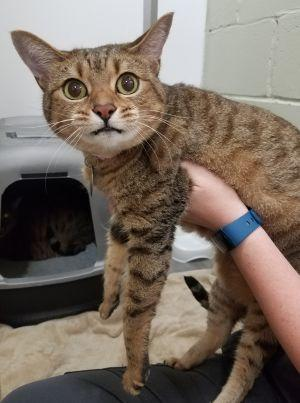bengal: (4, 1, 193, 181)
